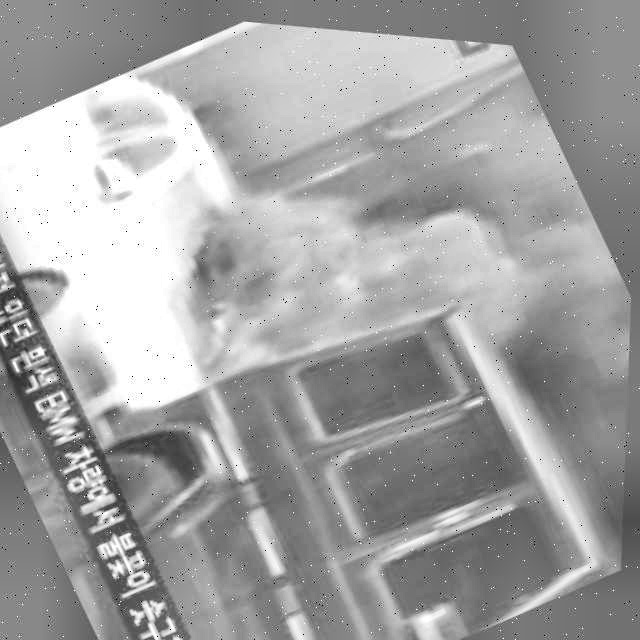Fire: (141, 63, 576, 478)
Smoke: (500, 154, 637, 428)
